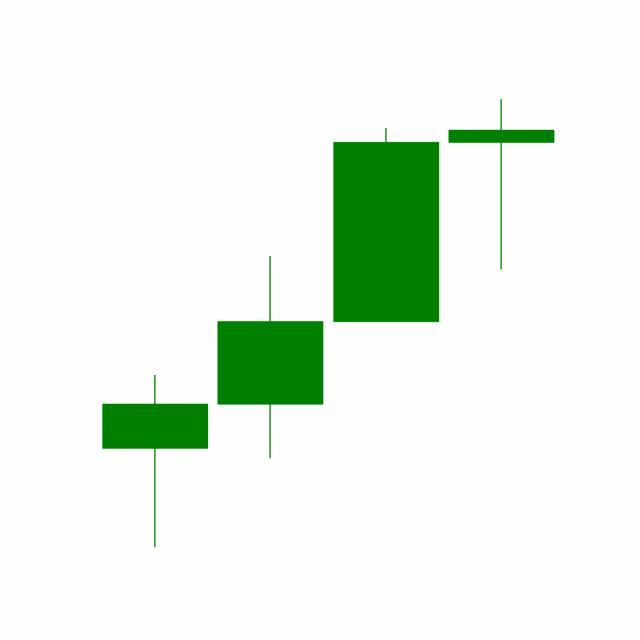Spinning Top: (444, 98, 560, 273)
